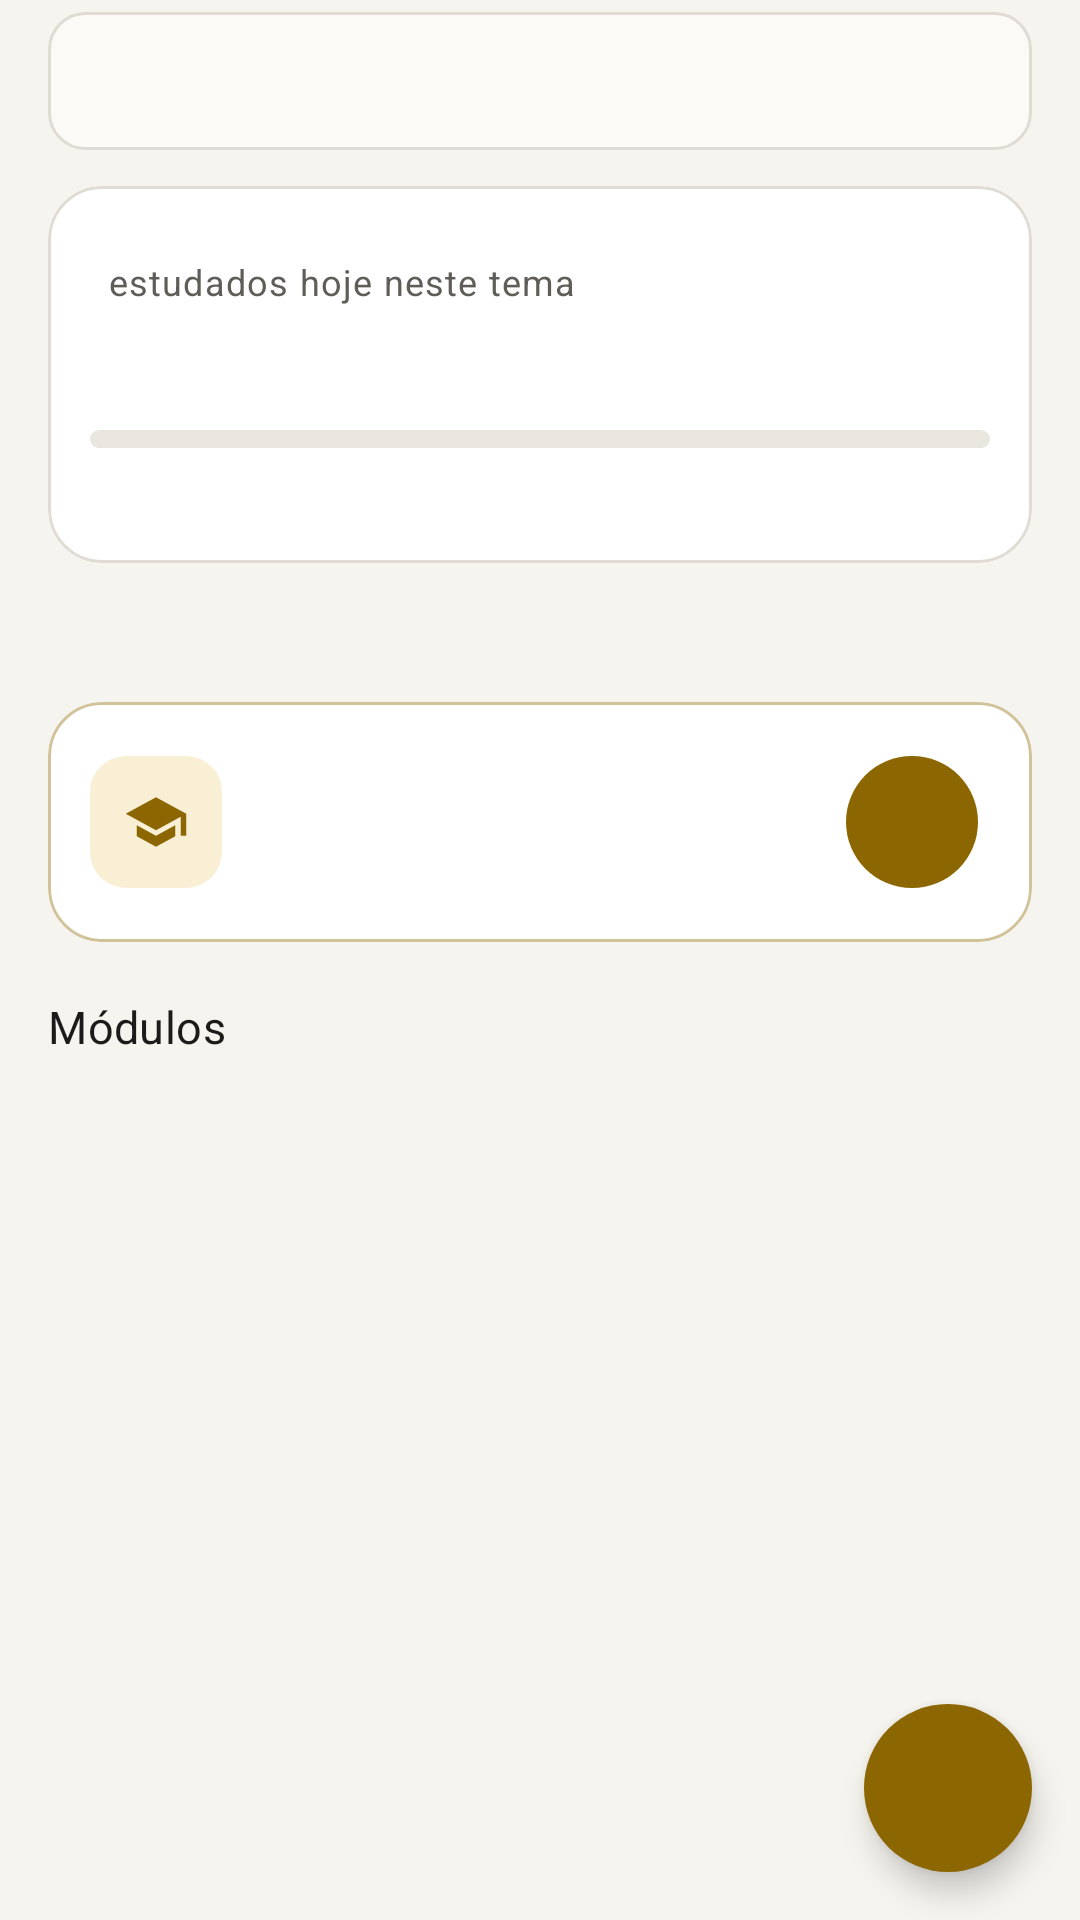

Screen size 1080w x 1920h. Icon name, then its box in pixels as (x1, y1, x2, y2):
study: (126, 797, 187, 847)
